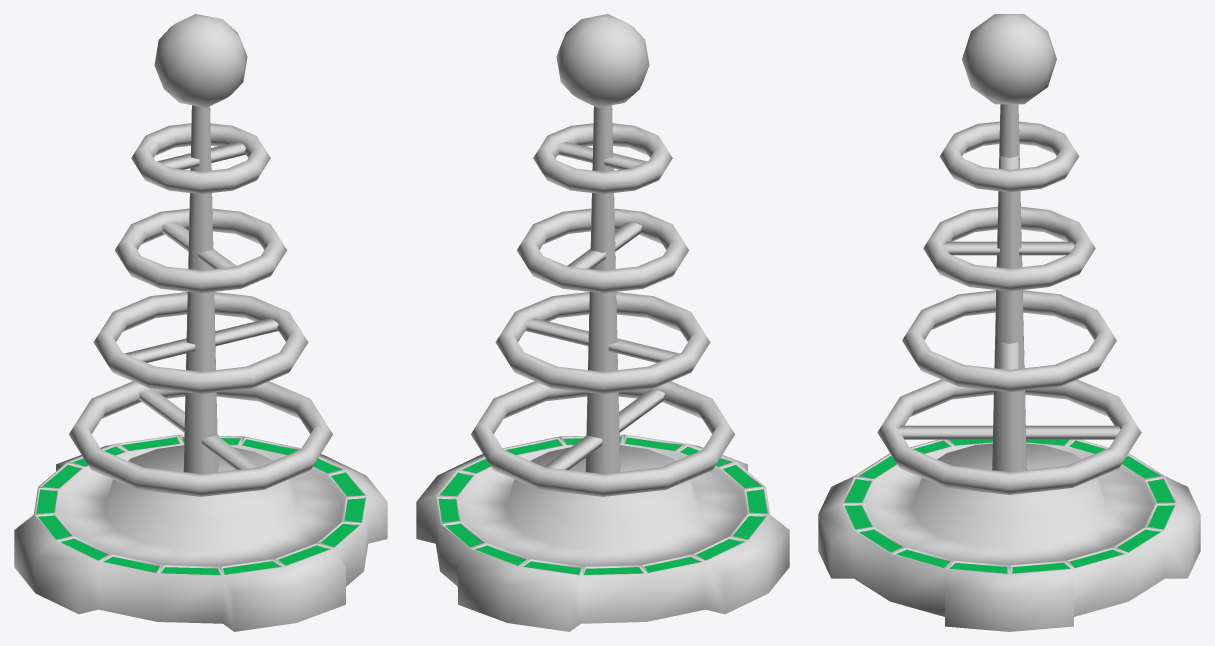
File: Generator.fbx
3 views of the same model, side by side, from view 1: azimuth 30°, elevation 25°; view 2: azimuth 150°, elevation 25°; view 3: azimuth 270°, elevation 25° (orthographic).
Visible parts, largest first — view 1: Tourelle, Base, Temperature; view 2: Tourelle, Base, Temperature; view 3: Tourelle, Base, Temperature.
Boxes of the visible parts, x1=… form: Tourelle: x1=69, y1=14, x2=332, y2=496; Base: x1=14, y1=434, x2=387, y2=631; Temperature: x1=36, y1=437, x2=365, y2=574; Tourelle: x1=471, y1=14, x2=734, y2=496; Base: x1=416, y1=434, x2=789, y2=631; Temperature: x1=438, y1=437, x2=767, y2=574; Tourelle: x1=877, y1=14, x2=1141, y2=494; Base: x1=818, y1=439, x2=1200, y2=631; Temperature: x1=844, y1=439, x2=1174, y2=573.
Size of the model in its own units: 0.8514 by 1.32 by 0.8514.
